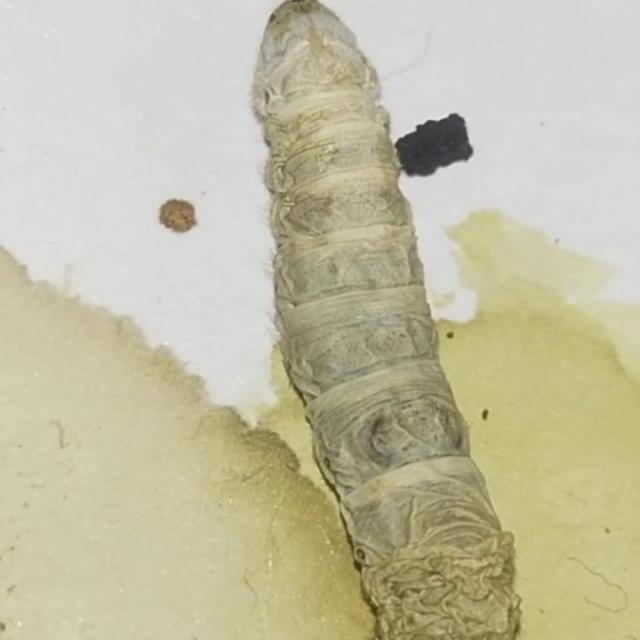Grasserie: (208, 0, 558, 640)
